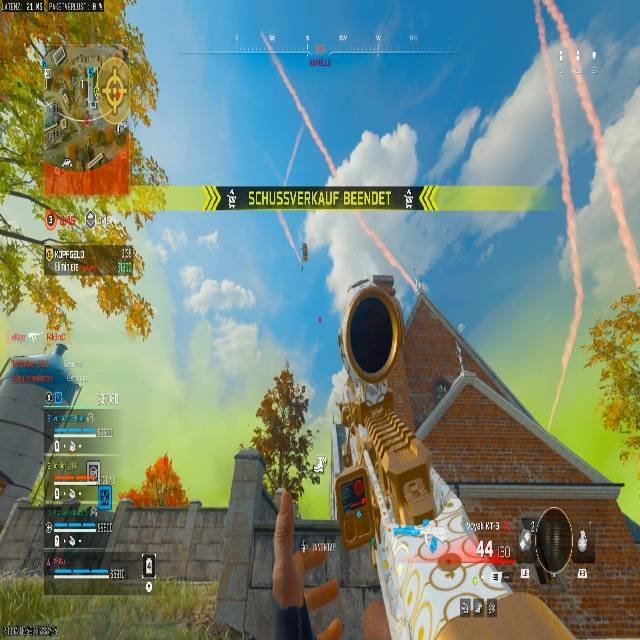head: (514, 507, 575, 584)
